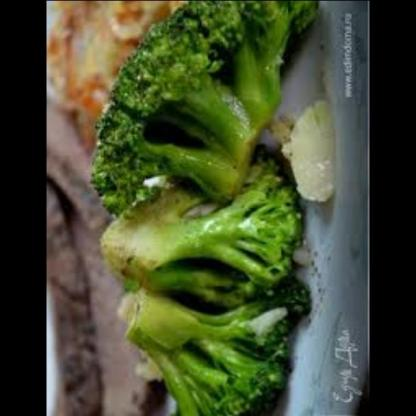broccoli: (94, 0, 314, 416)
